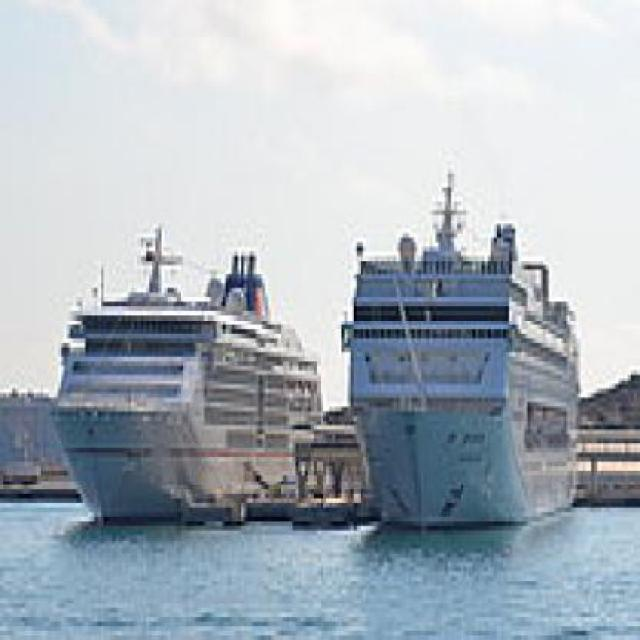cruise: (342, 161, 599, 546), (47, 211, 340, 536)
